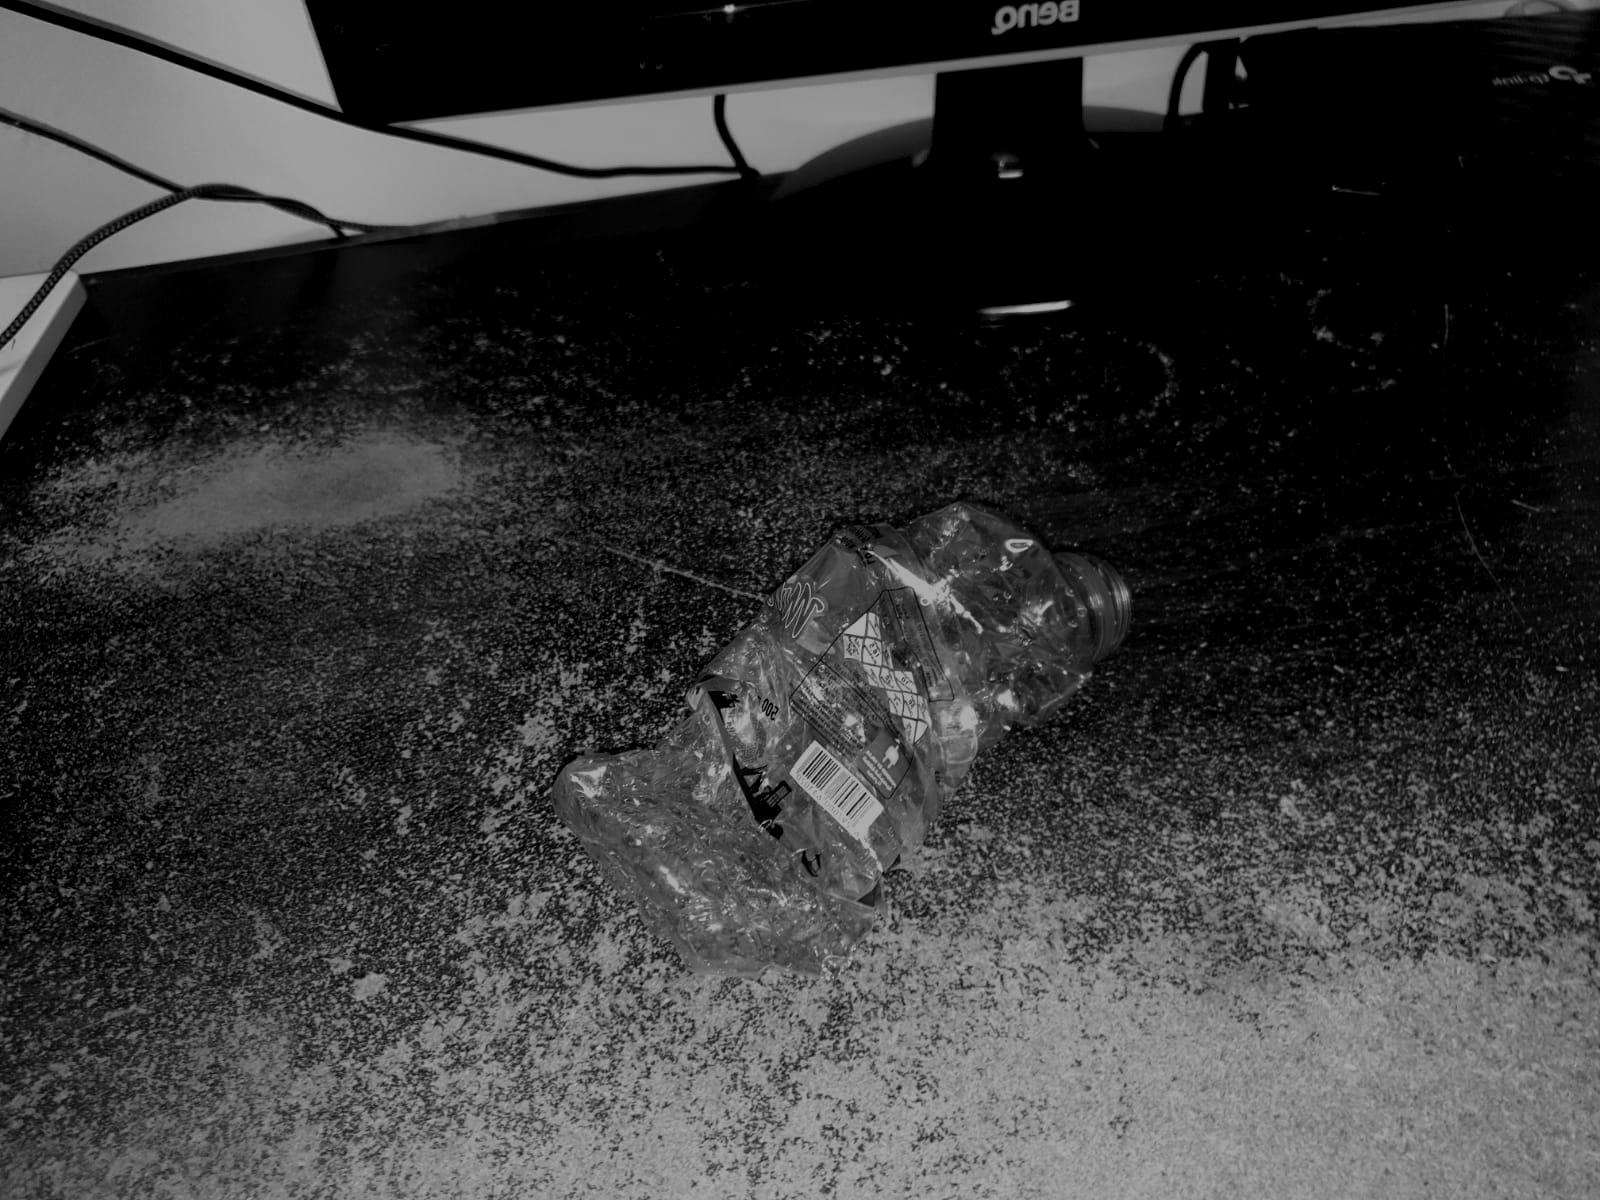bottle: (544, 498, 1167, 974)
